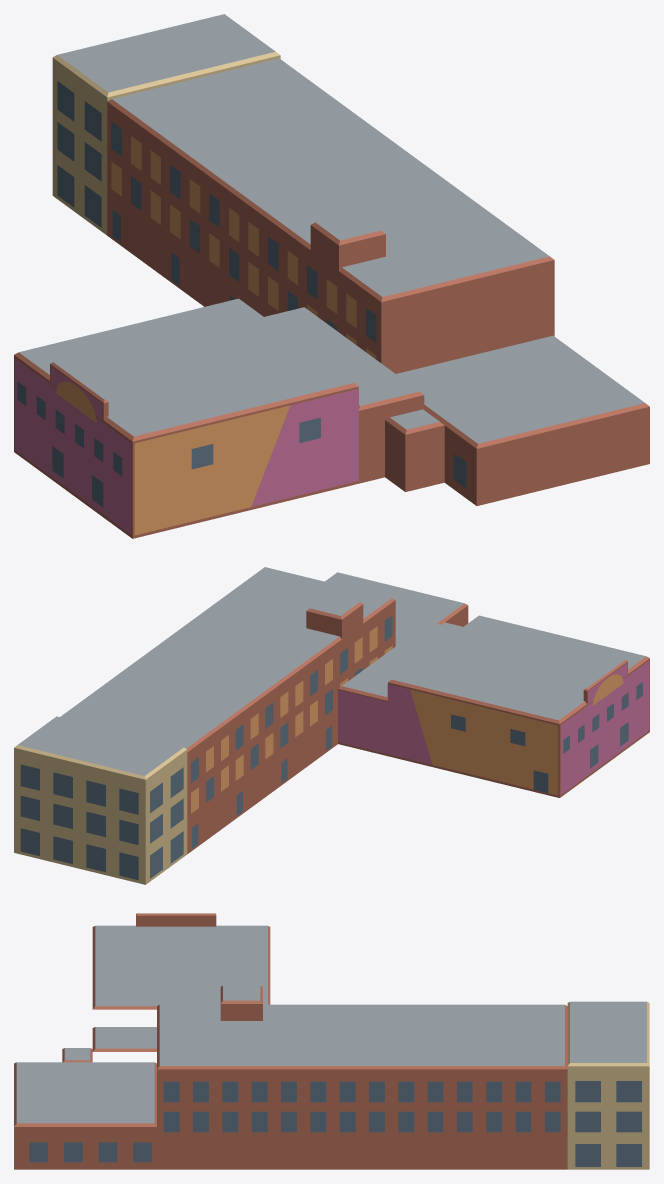
The model's file is clt-dilworth-artisan-station.glb.
3 views of the same model, one above another, from view 1: azimuth 30°, elevation 25°; view 2: azimuth 150°, elevation 25°; view 3: azimuth 270°, elevation 25° (orthographic). The views are drawn at different scales.
Visible parts, largest first — view 1: Dilworth Artisan Station; view 2: Dilworth Artisan Station; view 3: Dilworth Artisan Station.
Boxes of the visible parts, x1,y1,x2,y2 form: Dilworth Artisan Station: (14,14,649,538); Dilworth Artisan Station: (14,567,649,884); Dilworth Artisan Station: (14,913,649,1169).
Size of the model in its own units: 47.6 by 15.9 by 75.14.
